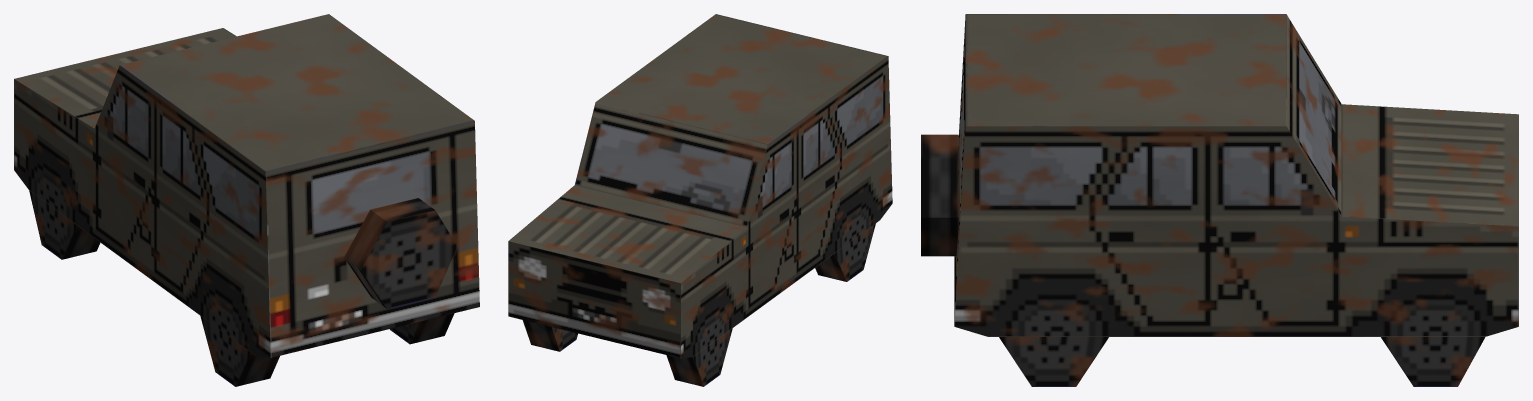
File: prop_car4.glb
3 renders of one model, left to right at view 1: azimuth 30°, elevation 25°; view 2: azimuth 150°, elevation 25°; view 3: azimuth 270°, elevation 25°, orthographic. The views are drawn at different scales.
Parts seen in each view (by area): view 1: hull; view 2: hull; view 3: hull.
Boxes of the visible parts, left/top/right/bottom form: hull: left=14, top=14, right=479, bottom=386; hull: left=508, top=14, right=892, bottom=386; hull: left=921, top=14, right=1518, bottom=386.
Bounding box in the file's own units: 0.9776 × 1.06 × 2.2.
Materials: 1 (1 with a texture image).
